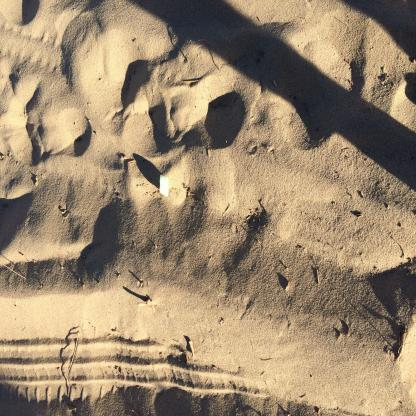trash: (154, 172, 171, 200)
